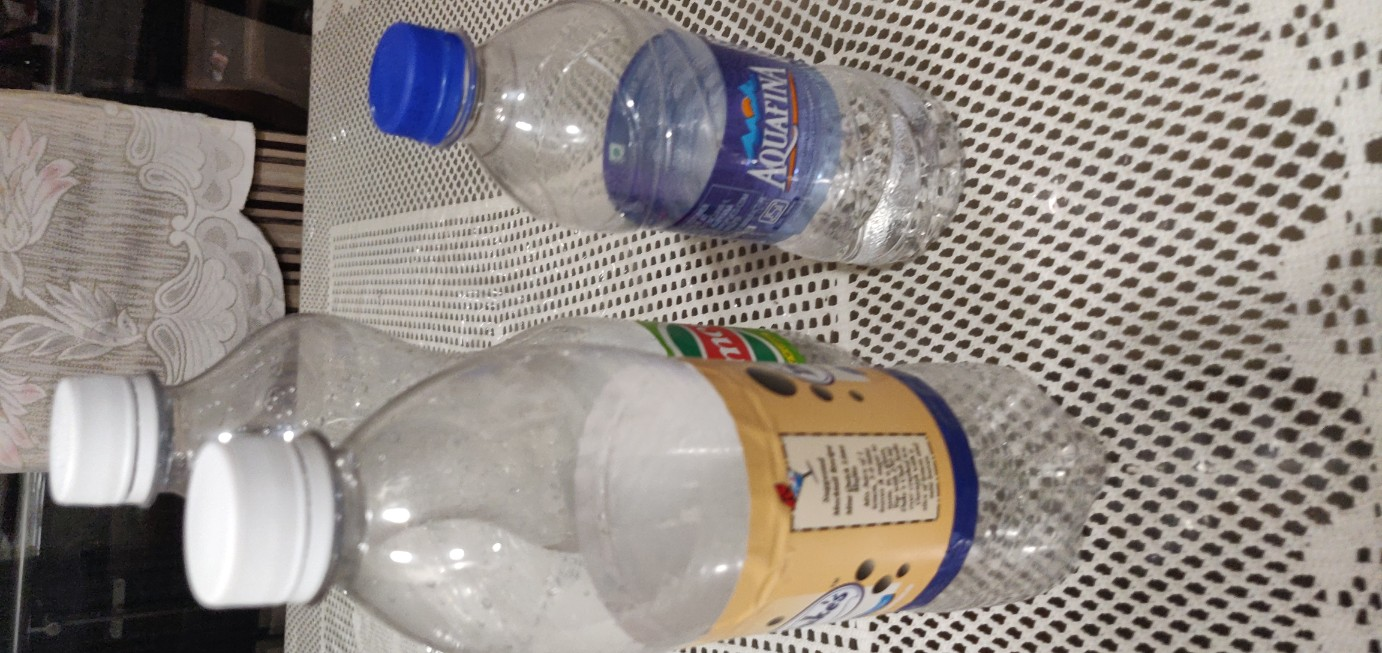Electronics: (167, 302, 1128, 653), (22, 301, 937, 598), (349, 1, 999, 280)
